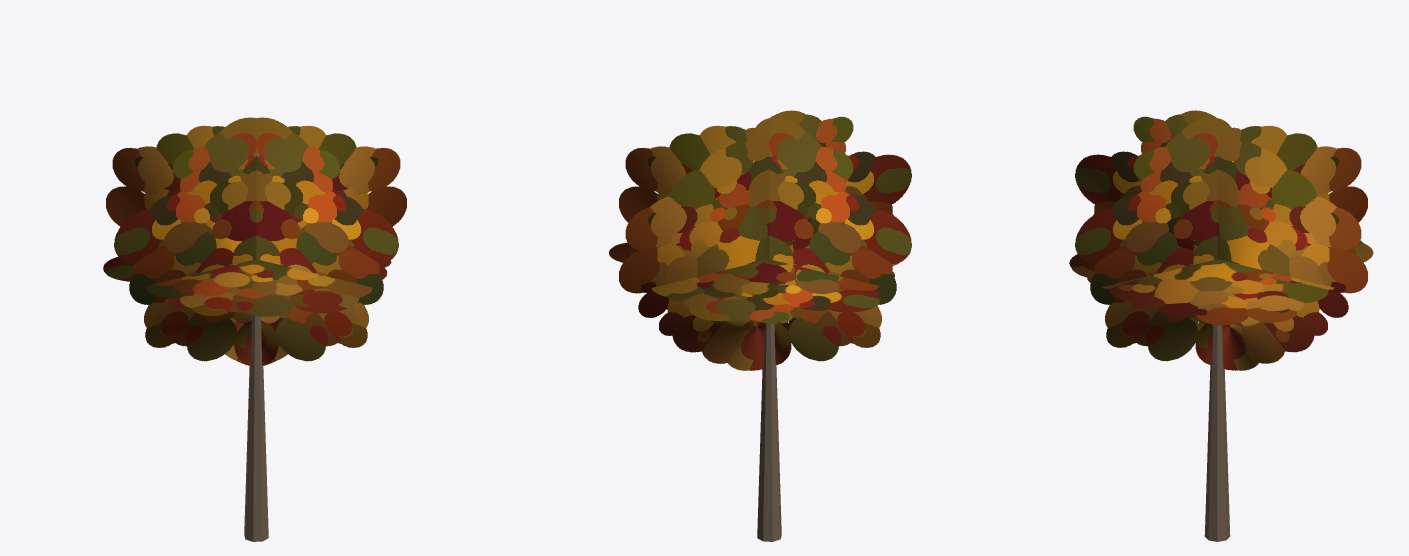
Rendered from broadleaf_l_autumn.glb.
The picture shows the model from 3 angles, left to right: view 1: azimuth 30°, elevation 25°; view 2: azimuth 150°, elevation 25°; view 3: azimuth 270°, elevation 25°; orthographic projection.
Parts seen in each view (by area): view 1: broadleaf_l_autumn; view 2: broadleaf_l_autumn; view 3: broadleaf_l_autumn.
Part boxes in pixels (box(x1,y1,x2,y2)): broadleaf_l_autumn: box(103, 117, 406, 541); broadleaf_l_autumn: box(608, 110, 911, 541); broadleaf_l_autumn: box(1069, 110, 1373, 541).
Bounding box in the file's own units: 13 × 16 × 11.7.
2 materials, 1 textured.
